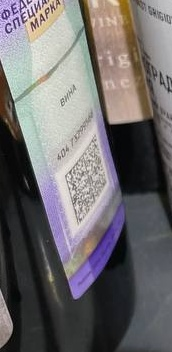2d: (64, 133, 109, 225)
